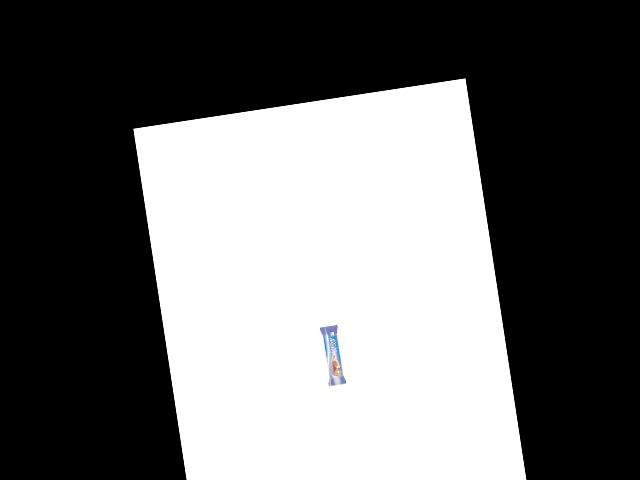chocolate: (318, 322, 353, 394)
